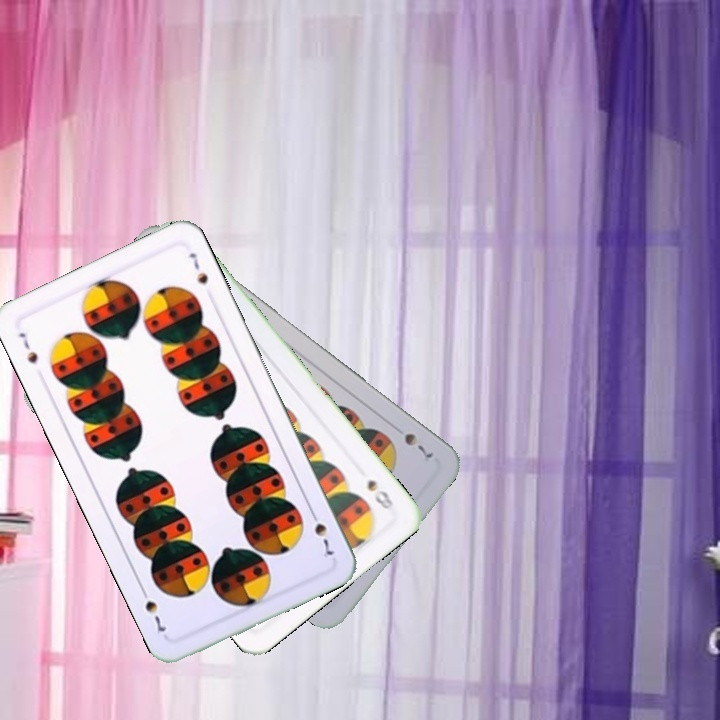S7: (306, 505, 336, 561), (400, 429, 436, 461), (14, 328, 41, 367)
S8: (363, 475, 397, 515)
